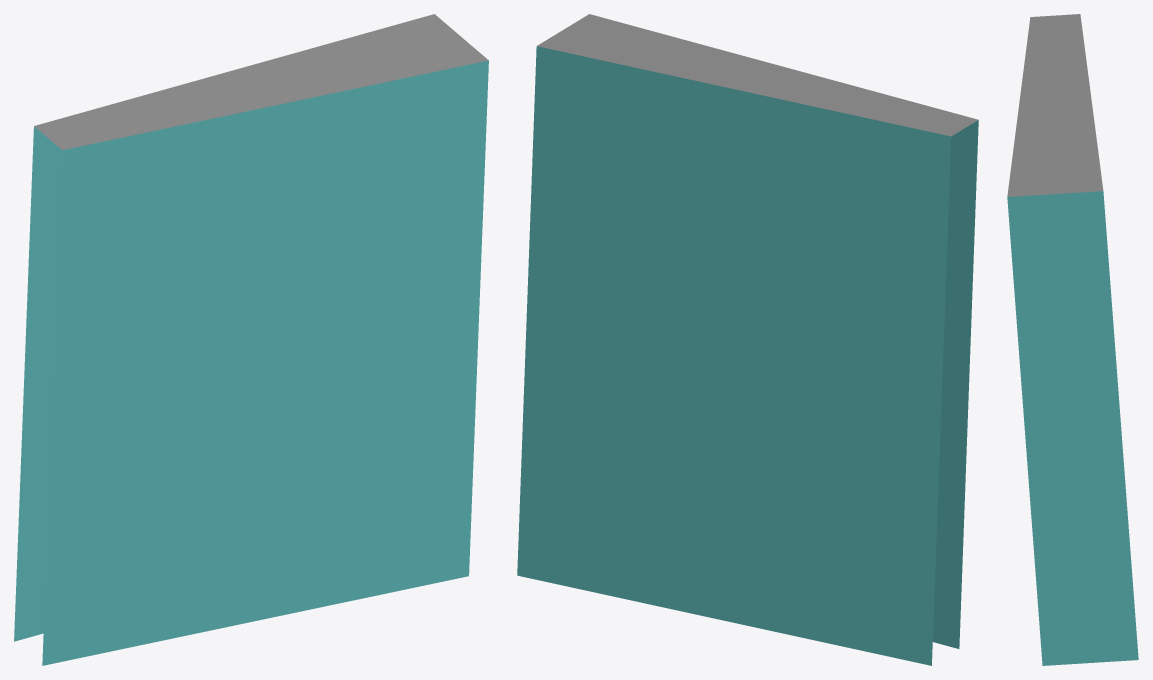
3 renders of one model, left to right at view 1: azimuth 30°, elevation 25°; view 2: azimuth 150°, elevation 25°; view 3: azimuth 270°, elevation 25°, orthographic. The views are drawn at different scales.
Parts seen in each view (by area): view 1: Joint_0_Object_0; view 2: Joint_0_Object_0; view 3: Joint_0_Object_0.
Part boxes in pixels (x1,y1,x2,y2): Joint_0_Object_0: (14, 14, 488, 665); Joint_0_Object_0: (517, 14, 978, 665); Joint_0_Object_0: (1007, 14, 1138, 665).
Bounding box in the file's own units: 519 × 644 × 161.
